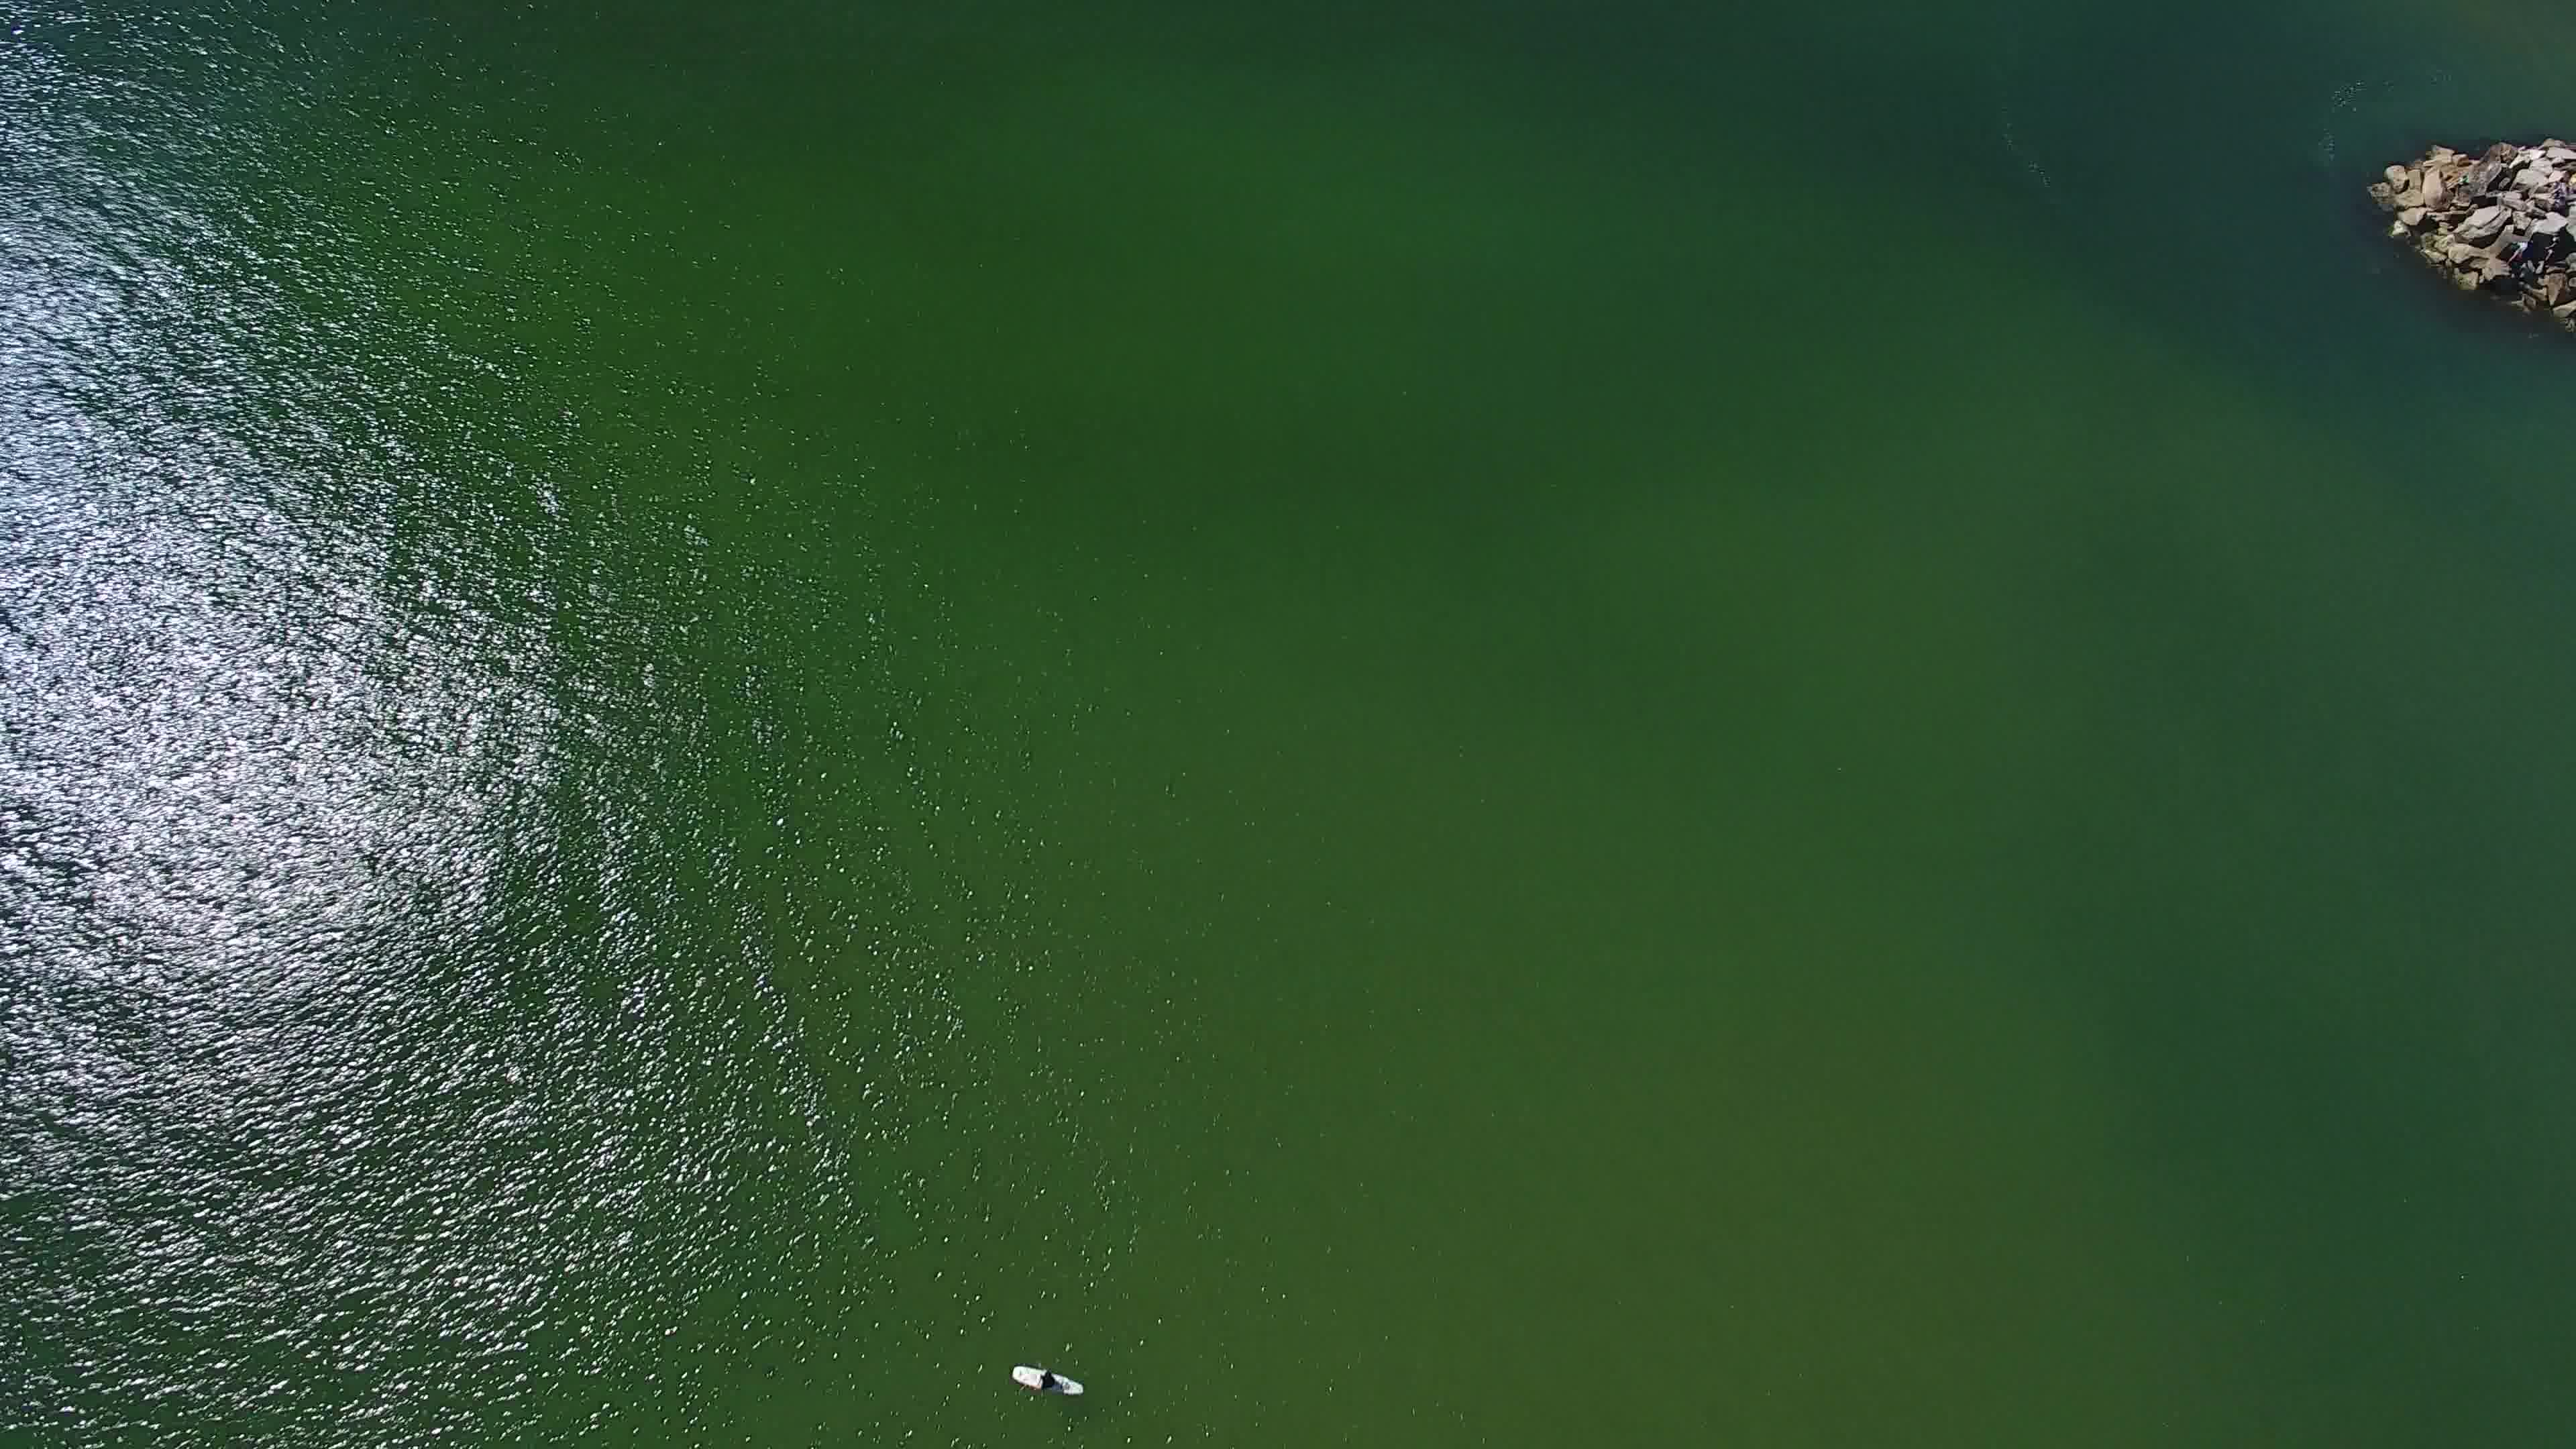surfer: (1000, 1345, 1095, 1410)
